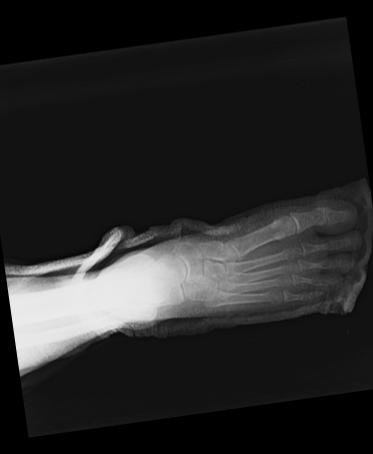fractured: (213, 239, 231, 261)
